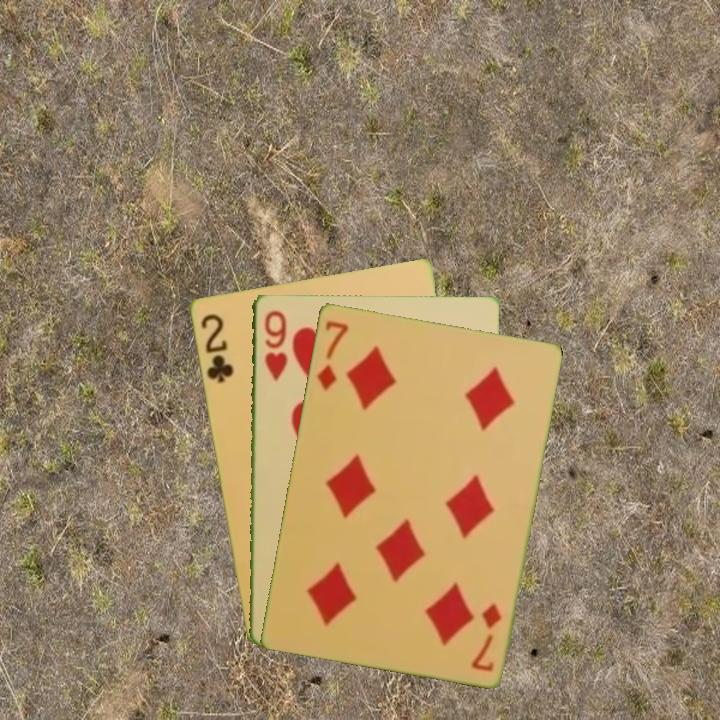2c: (197, 309, 236, 386)
7d: (313, 317, 351, 393), (467, 600, 504, 674)
9h: (260, 307, 289, 384)
